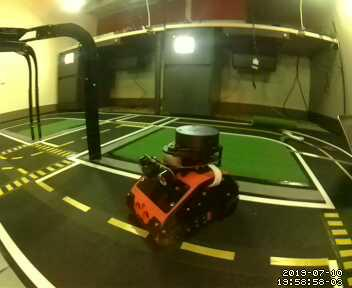pheeno: (124, 122, 242, 248)
